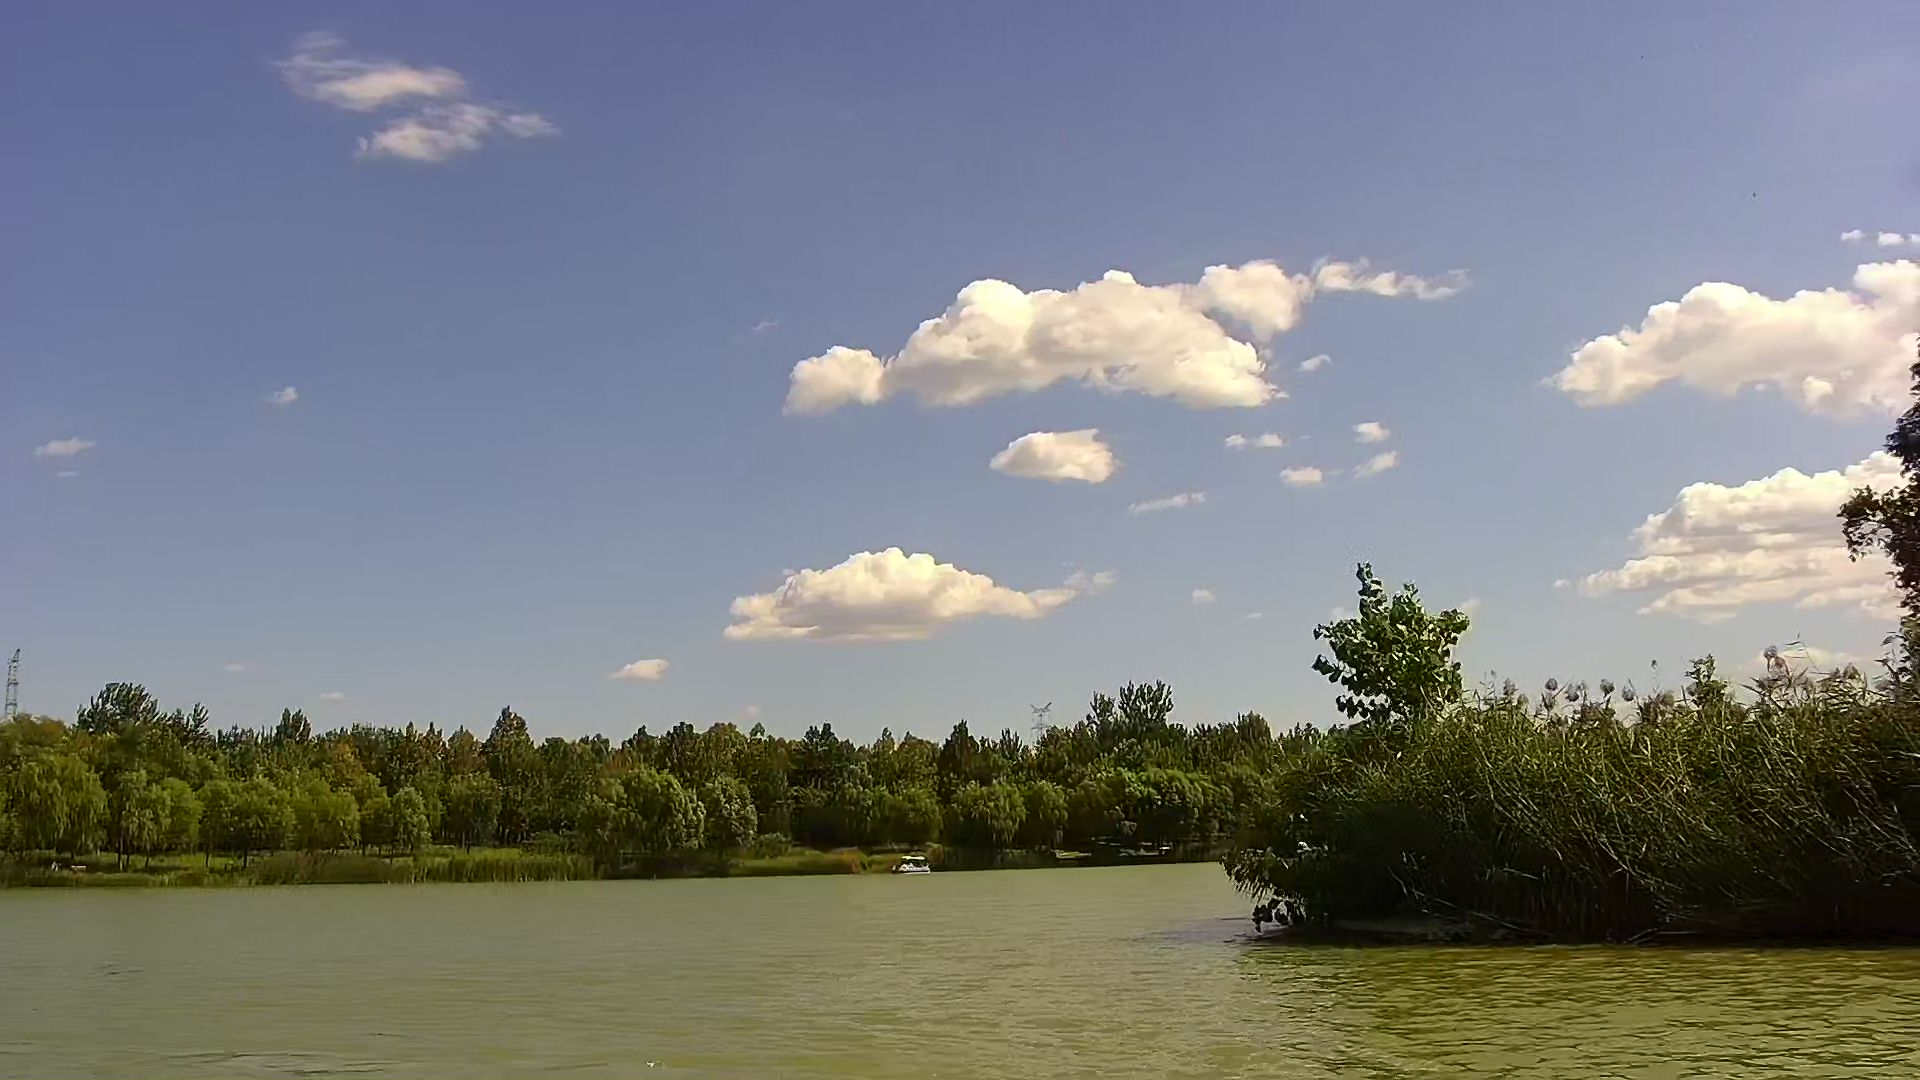boat: (886, 855, 935, 880)
